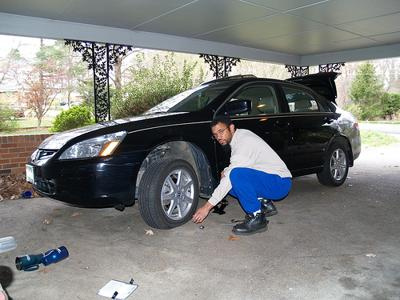person: (190, 118, 293, 238)
